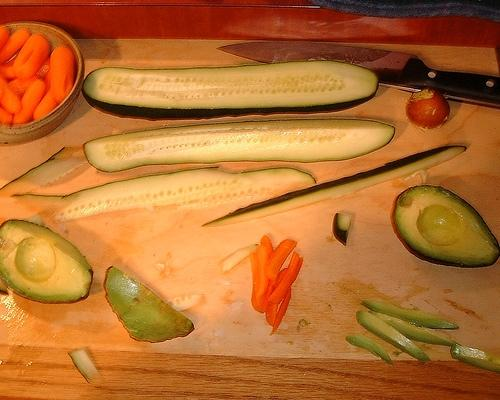avocado: (392, 184, 500, 268), (1, 219, 94, 303), (104, 266, 195, 343), (362, 300, 459, 330), (450, 344, 500, 374), (346, 336, 394, 366)
carrot: (267, 251, 304, 304), (14, 34, 50, 81), (50, 46, 76, 104), (12, 80, 46, 124), (264, 239, 297, 280), (266, 268, 288, 326), (0, 28, 32, 66), (270, 288, 292, 336), (32, 86, 59, 120), (0, 74, 22, 114), (8, 74, 39, 100), (1, 57, 16, 80), (254, 252, 261, 297), (35, 57, 50, 78), (260, 235, 274, 257), (0, 106, 13, 125), (0, 25, 9, 51)
cucumber: (202, 146, 468, 226), (83, 61, 378, 121), (83, 118, 395, 172), (53, 168, 318, 224), (1, 156, 88, 198), (68, 349, 105, 384), (332, 213, 352, 246)
